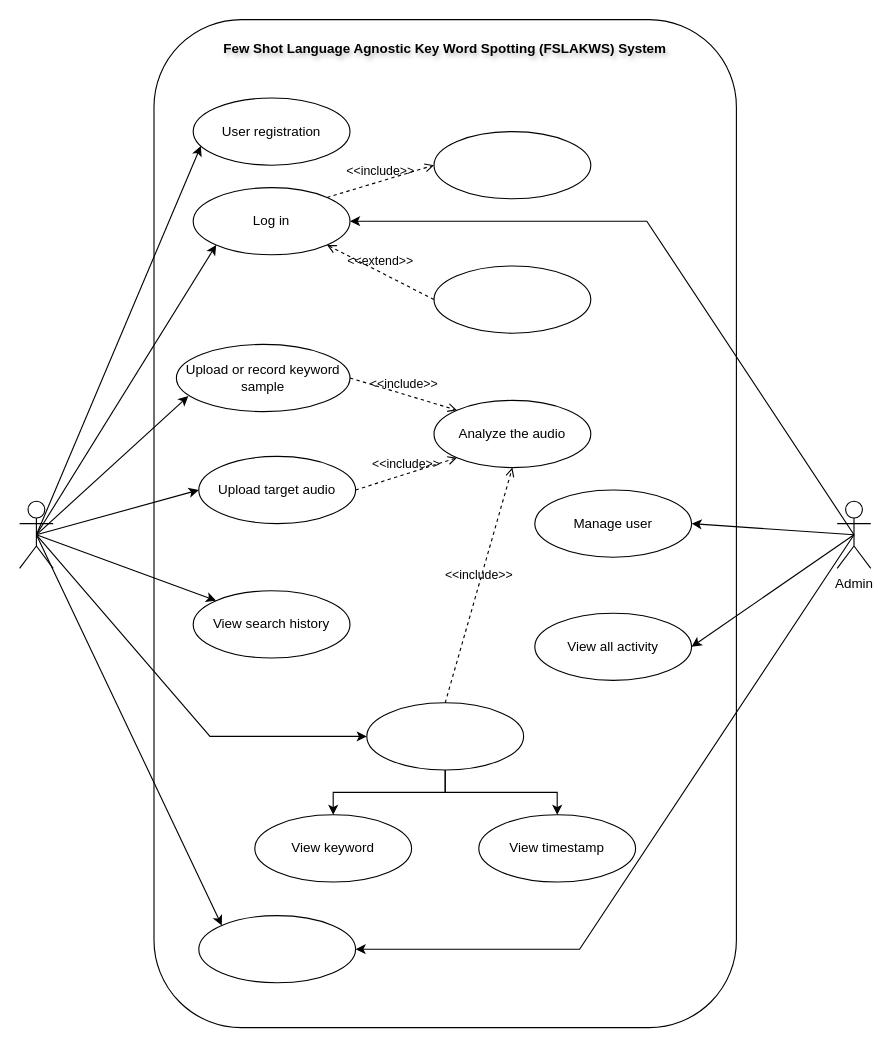
The diagram is 893 pixels wide and 1047 high, and some of its shapes have lost their labels. The centre of each missing label's shape, as x and y in pixels:
"Display error" belongs at (512,299).
"Generate and View result" belongs at (445,736).
"Log out" belongs at (277,948).
"User" belongs at (35,534).
"Verify Credentials" belongs at (512,164).
